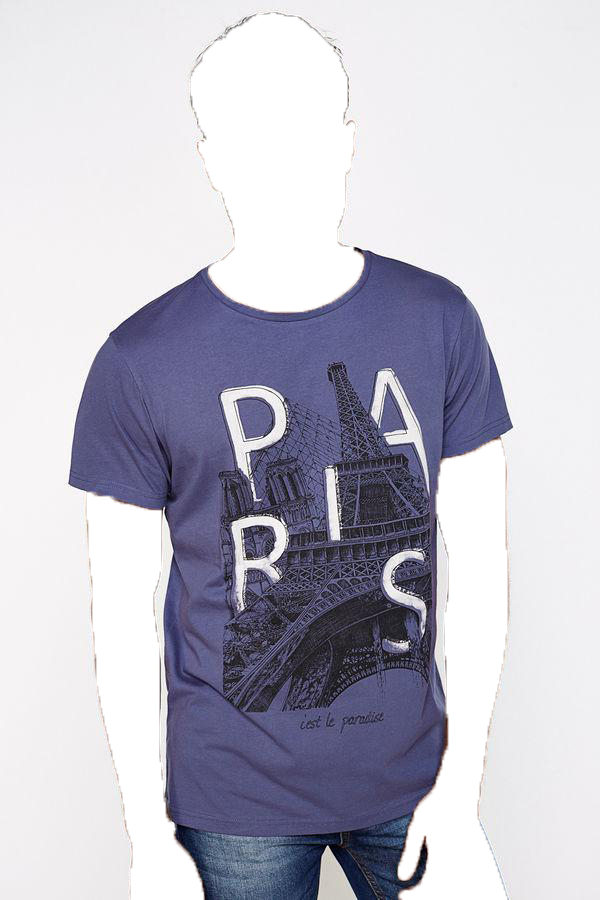teeshirt: (64, 248, 527, 844)
